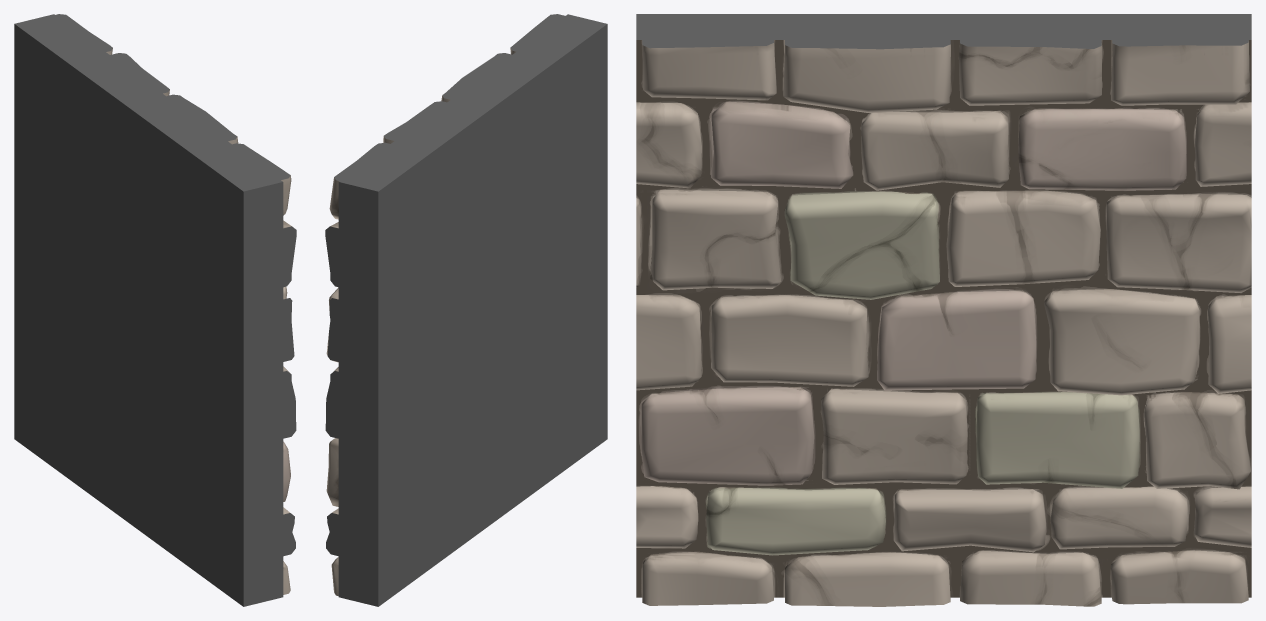
Rendered from WB_wall.fbx.
The picture shows the model from 3 angles, left to right: view 1: azimuth 30°, elevation 25°; view 2: azimuth 150°, elevation 25°; view 3: azimuth 270°, elevation 25°; orthographic projection. The views are drawn at different scales.
Parts seen in each view (by area): view 1: WB_wall; view 2: WB_wall; view 3: WB_wall.
Boxes of the visible parts, x1,y1,x2,y2 form: WB_wall: (14,14,296,606); WB_wall: (325,14,607,606); WB_wall: (636,14,1251,606).
Size of the model in its own units: 13.82 by 100 by 100.
